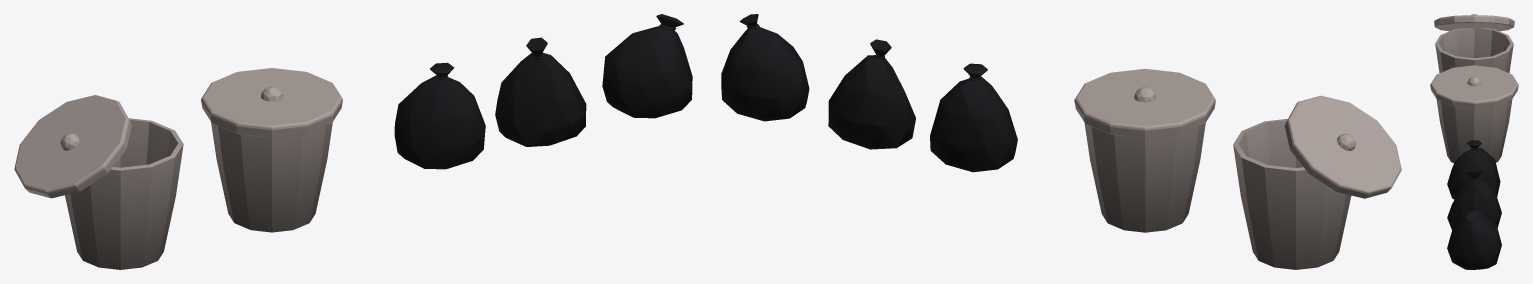
The model's file is trash_bin_pack_low_poly.glb.
The picture shows the model from 3 angles, left to right: view 1: azimuth 30°, elevation 25°; view 2: azimuth 150°, elevation 25°; view 3: azimuth 270°, elevation 25°; orthographic projection. The views are drawn at different scales.
Parts seen in each view (by area): view 1: Icosphere.006, Icosphere.005, Icosphere.004, Icosphere.001, Icosphere.003, Icosphere.002; view 2: Icosphere.006, Icosphere.005, Icosphere.004, Icosphere.003, Icosphere.001, Icosphere.002; view 3: Icosphere.006, Icosphere.005, Icosphere.003, Icosphere.002, Icosphere.001, Icosphere.004.
Boxes of the visible parts, bbox=[...] form: Icosphere.006: bbox=[201, 68, 342, 232]; Icosphere.005: bbox=[65, 118, 183, 269]; Icosphere.004: bbox=[14, 95, 131, 198]; Icosphere.001: bbox=[394, 62, 485, 169]; Icosphere.003: bbox=[602, 14, 692, 118]; Icosphere.002: bbox=[495, 37, 586, 146]; Icosphere.006: bbox=[1074, 68, 1215, 232]; Icosphere.005: bbox=[1233, 119, 1351, 269]; Icosphere.004: bbox=[1284, 95, 1401, 198]; Icosphere.003: bbox=[721, 14, 809, 121]; Icosphere.001: bbox=[930, 63, 1017, 172]; Icosphere.002: bbox=[828, 39, 915, 149]; Icosphere.006: bbox=[1430, 65, 1518, 162]; Icosphere.005: bbox=[1435, 28, 1513, 72]; Icosphere.003: bbox=[1447, 210, 1501, 269]; Icosphere.002: bbox=[1447, 170, 1501, 229]; Icosphere.001: bbox=[1447, 140, 1500, 199]; Icosphere.004: bbox=[1434, 14, 1514, 31].
Size of the model in its own units: 13.32 by 2.89 by 2.46.
Materials: 1 (1 with a texture image).
